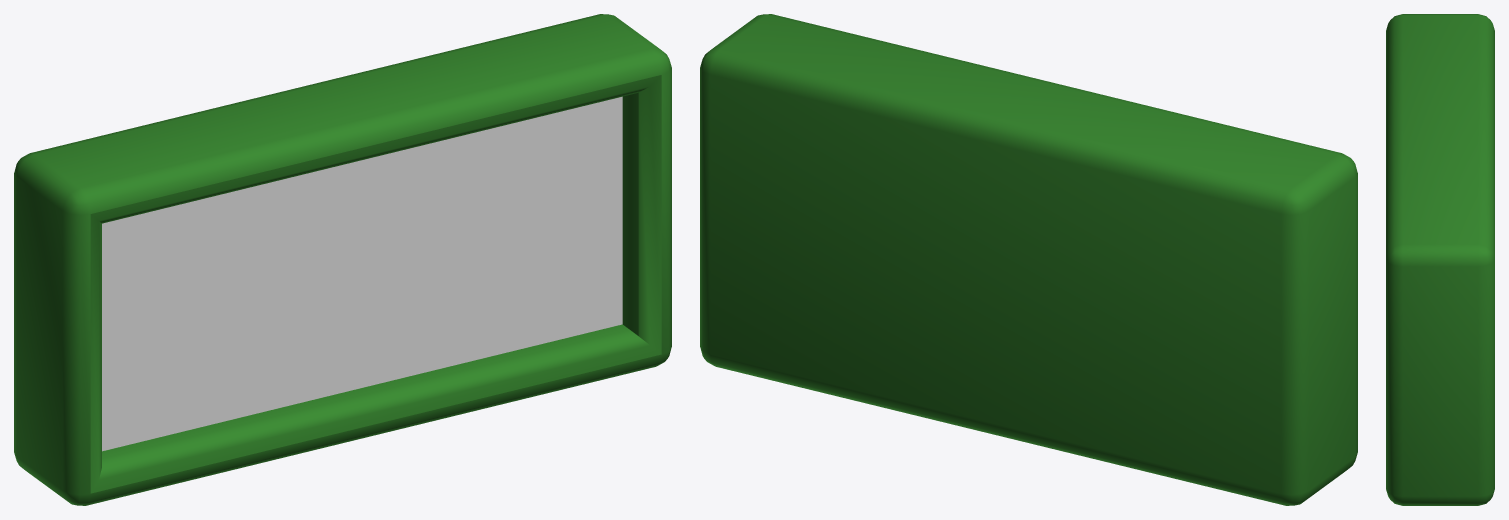
Rendered from Letrero.fbx.
3 renders of one model, left to right at view 1: azimuth 30°, elevation 25°; view 2: azimuth 150°, elevation 25°; view 3: azimuth 270°, elevation 25°, orthographic. The views are drawn at different scales.
Visible parts, largest first — view 1: amarilo; view 2: amarilo; view 3: amarilo.
Part boxes in pixels (x1,y1,x2,y2): amarilo: (14,14,671,505); amarilo: (700,14,1357,505); amarilo: (1386,14,1494,505).
Size of the model in its own units: 401 by 200 by 75.89.
